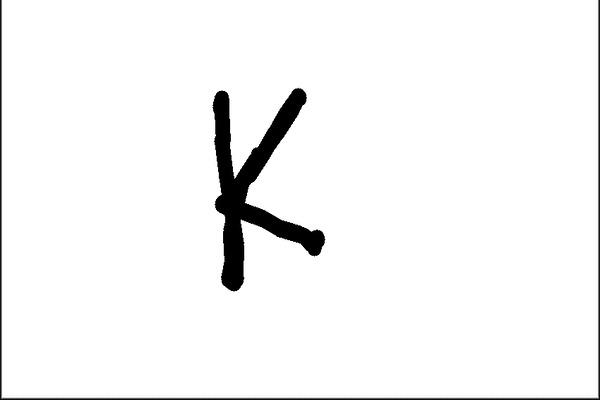K: (203, 77, 331, 298)
